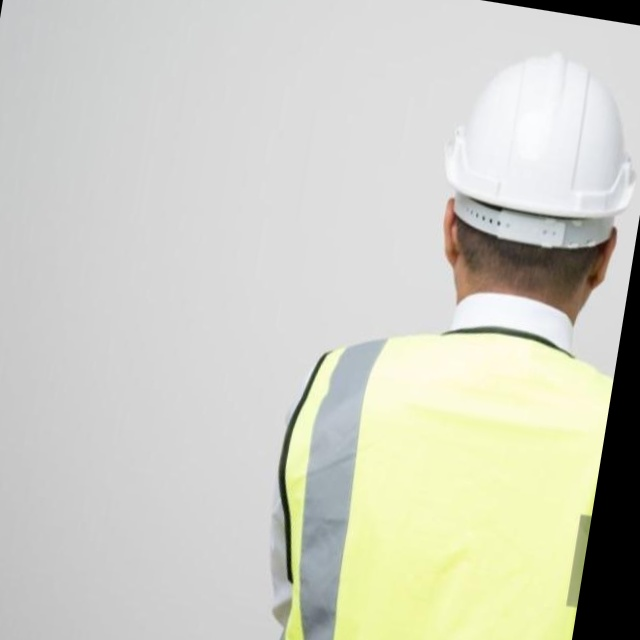Con_Casco: (419, 31, 640, 328)
Sin_Chaleco: (250, 307, 617, 640)
